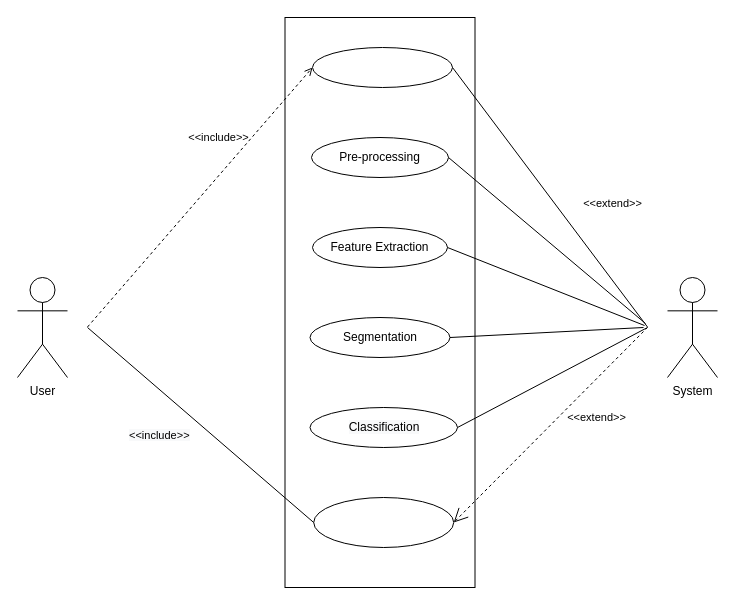
Image size: 735x605. Some labels were removed from this diagram. The shapes that lost their labels are listed below. From the top down, each one's centre as x and y in pixels, then its label:
At (x=382, y=67): "Upload Dataset".
At (x=383, y=522): "Predict Soil types and suitable CROP".
